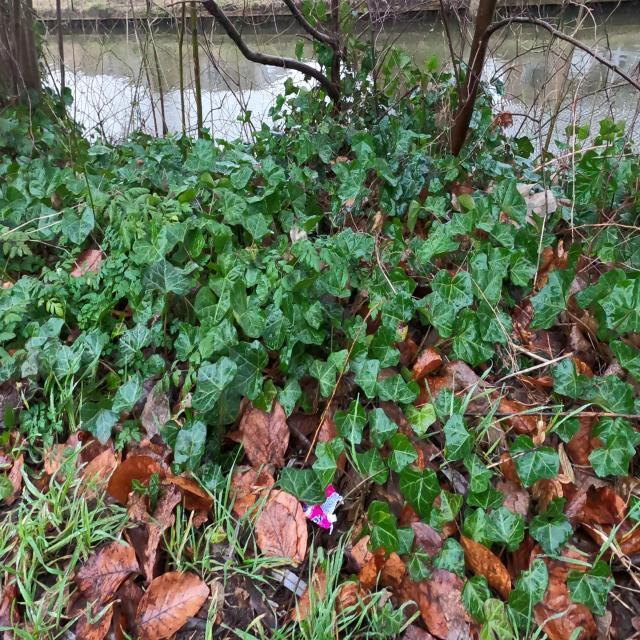Plastic: (302, 482, 344, 535)
